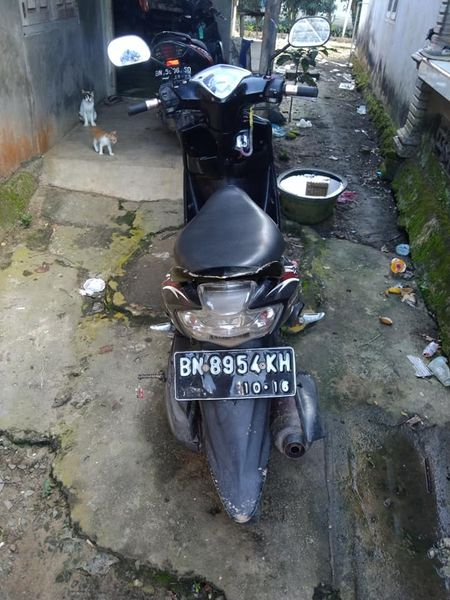plate: (171, 351, 298, 396)
